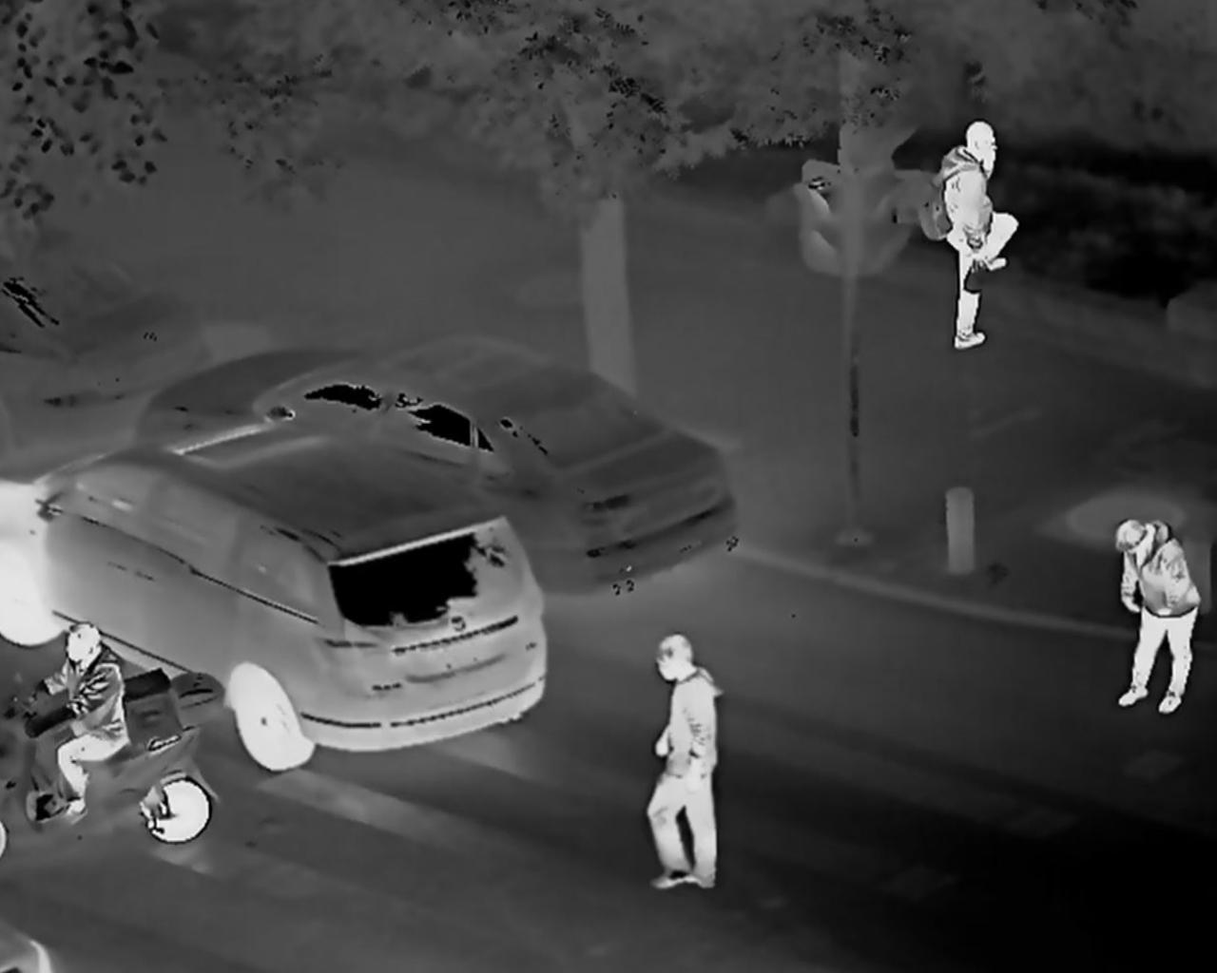person: (642, 632, 734, 895), (927, 116, 1023, 353), (36, 623, 144, 818), (1111, 513, 1206, 713)
